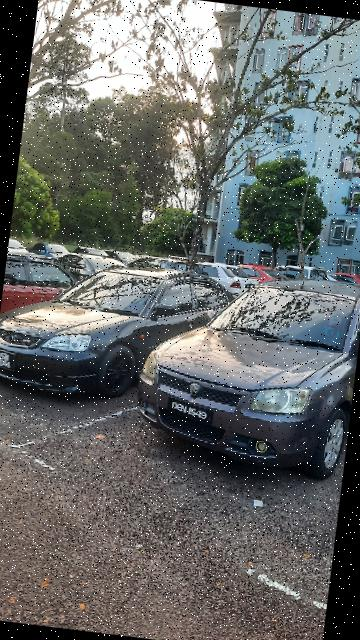License_Plate: (169, 398, 218, 427), (1, 348, 21, 372)
car: (124, 254, 360, 485), (1, 248, 236, 415)
